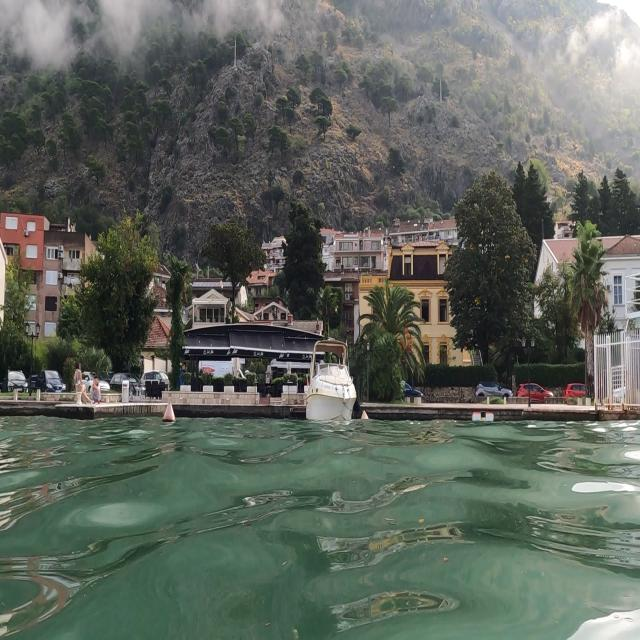boat: (304, 335, 358, 425)
buoy: (159, 391, 180, 433)
